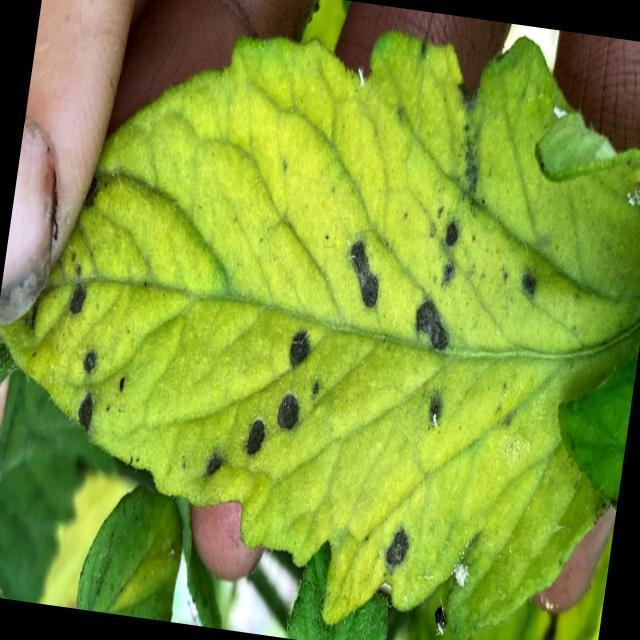Bacterial Spot: (199, 192, 486, 586), (36, 261, 141, 446)
